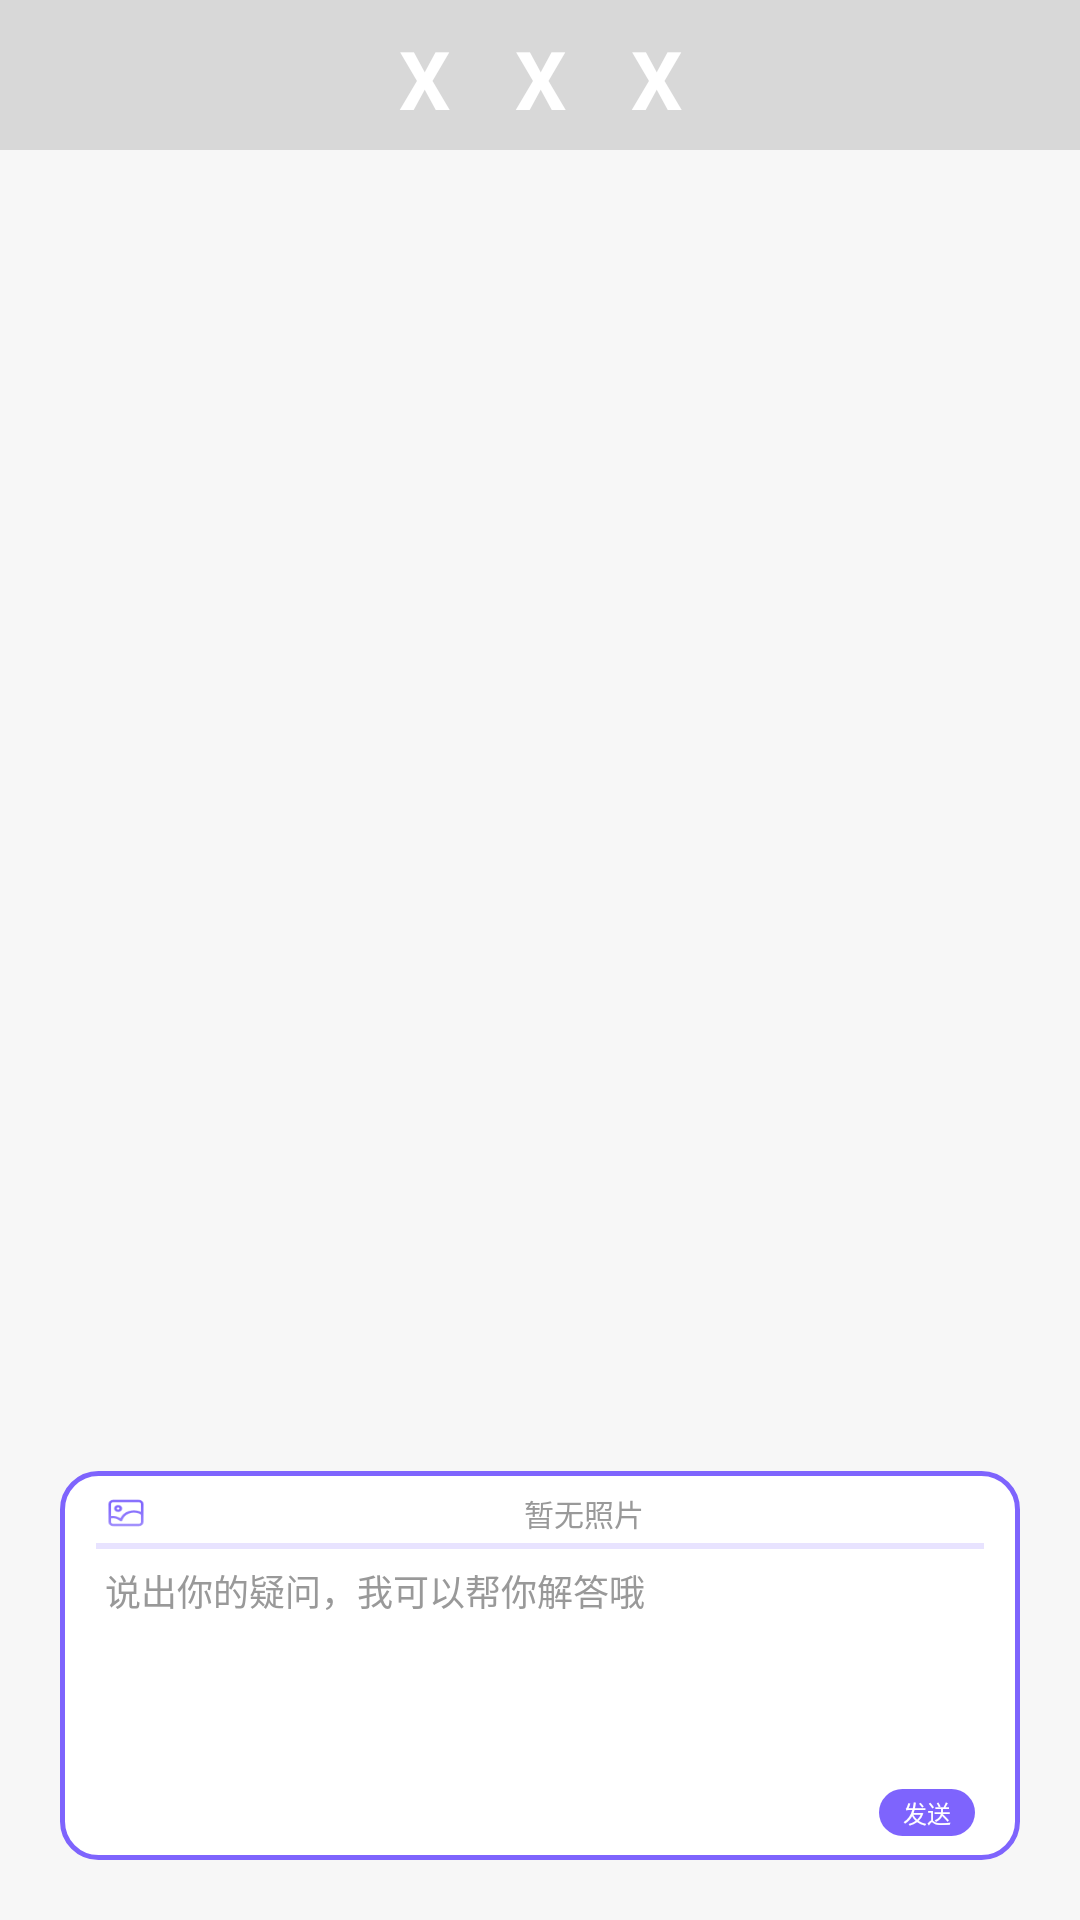

Icon bounding boxes for this 1080 × 1920 phone screenshot, format (x1, y1, x2, y2):
ai picture: (108, 1499, 144, 1527)
